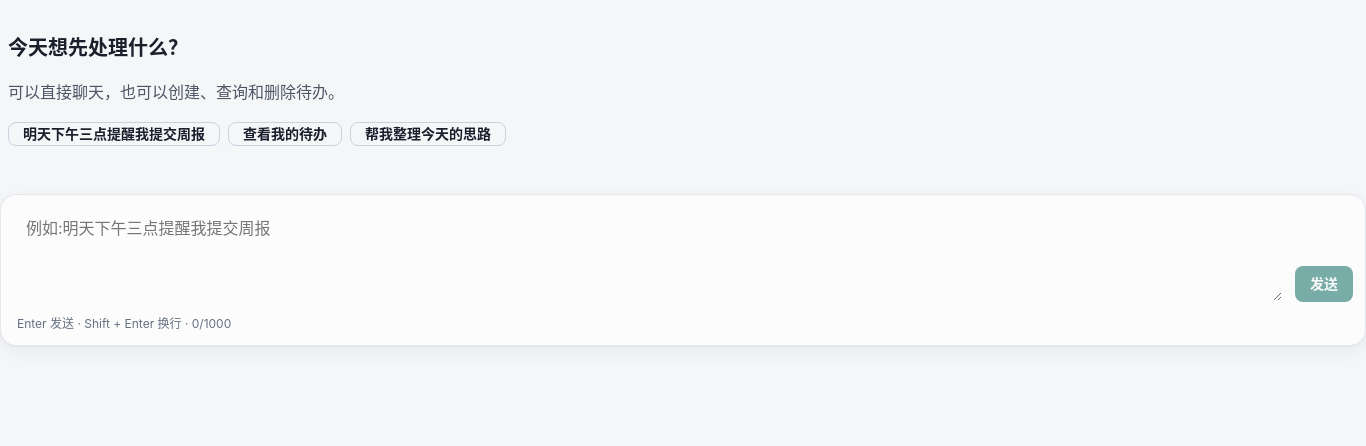
it: retries an explicit server failure without rendering its message
Type "你好" into the text box named "消息" at (650, 254), box left=17, top=207, right=1283, bottom=302
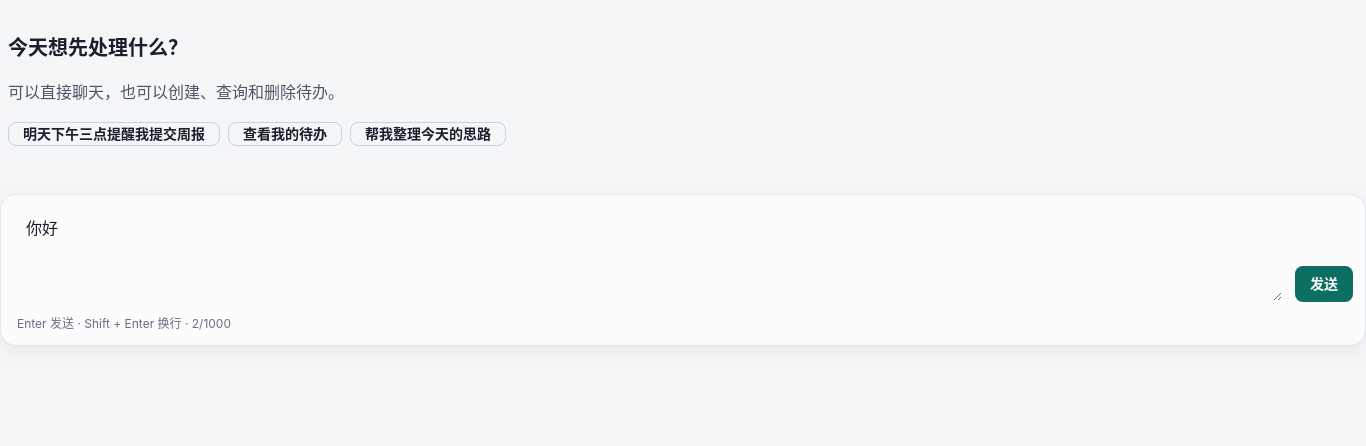
Click the button "发送" at (1324, 284), box left=1295, top=266, right=1353, bottom=302
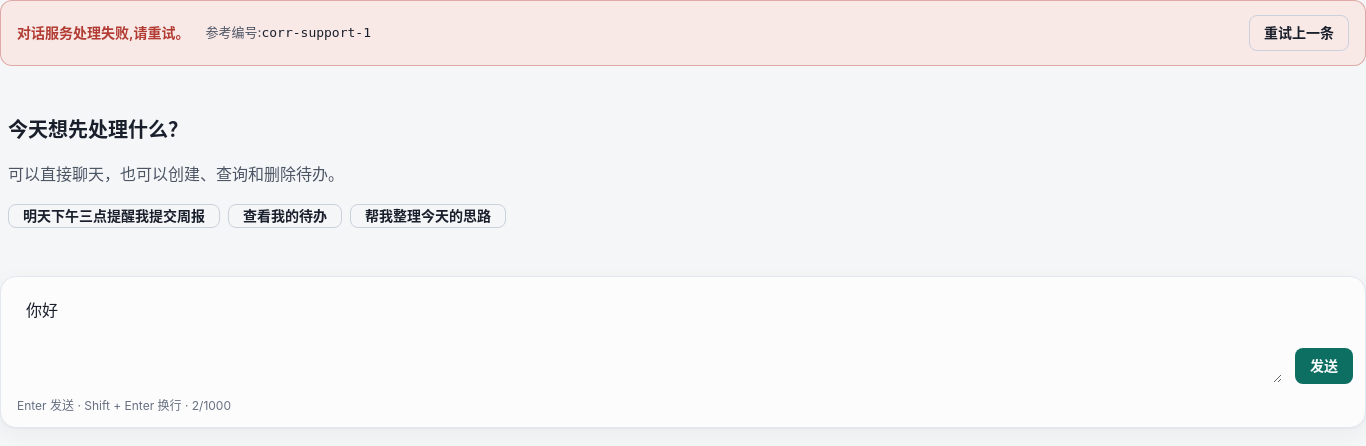
Expected: the message does not show "upstream secret", left=0, top=0, right=1365, bottom=66
Expected: the message shows "corr-support-1", left=261, top=25, right=371, bottom=40
Click the button "重试上一条" at (1299, 33), box left=1249, top=15, right=1349, bottom=51
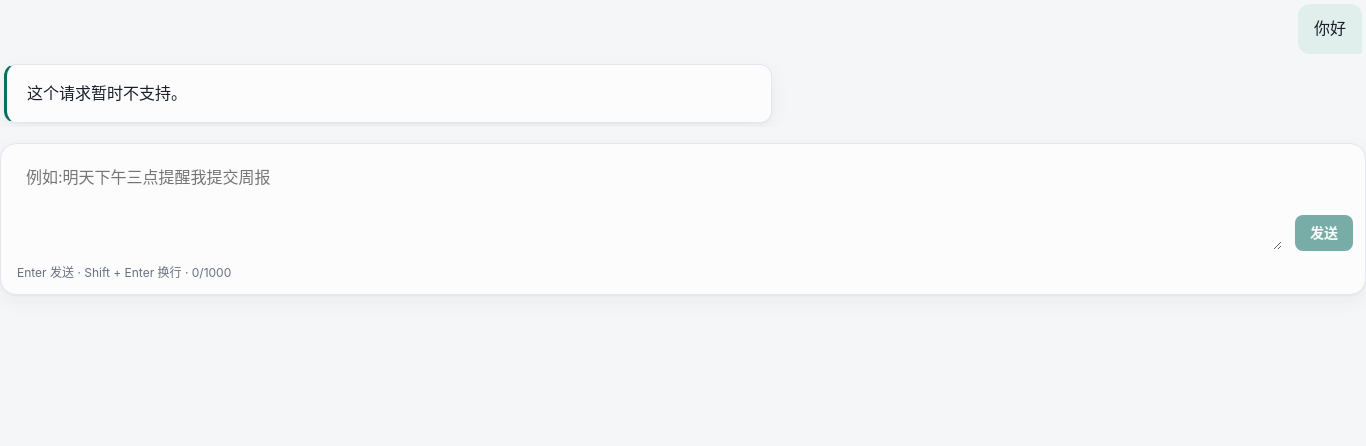
Expected: the text "这个请求暂时不支持。" is shown, left=4, top=64, right=772, bottom=123
